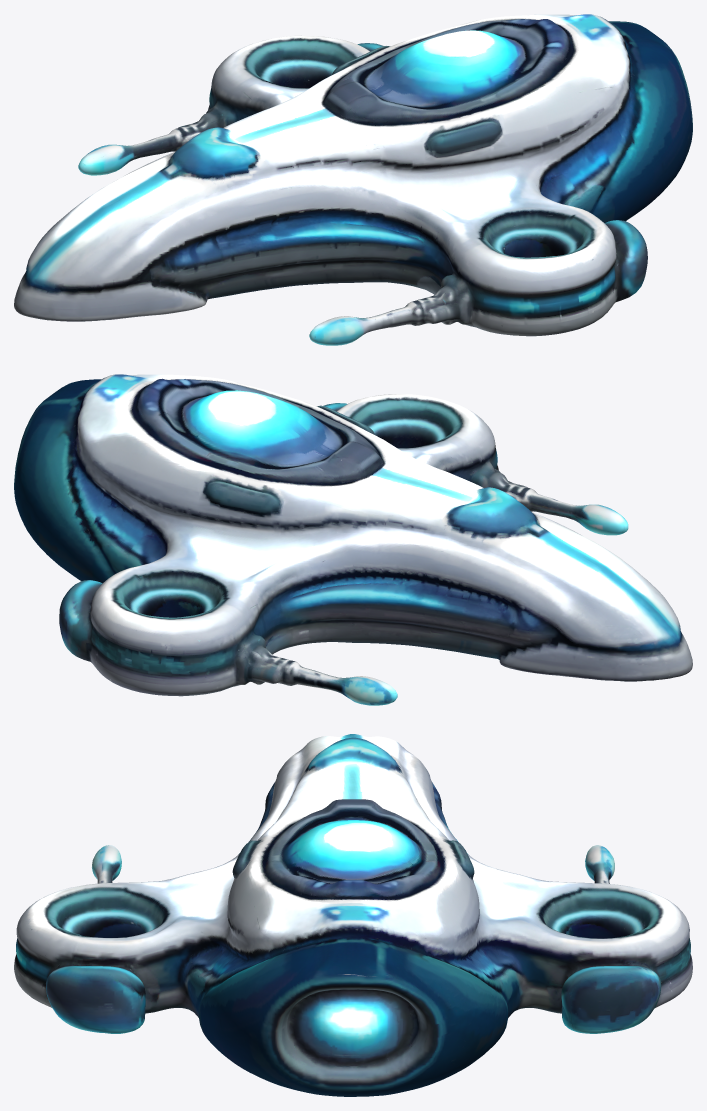
The model's file is Eclipse_Destroyer.glb.
The picture shows the model from 3 angles, top to bottom: view 1: azimuth 30°, elevation 25°; view 2: azimuth 150°, elevation 25°; view 3: azimuth 270°, elevation 25°; orthographic projection. The views are drawn at different scales.
Visible parts, largest first — view 1: Mesh_0; view 2: Mesh_0; view 3: Mesh_0.
Part boxes in pixels (<box>): Mesh_0: <box>14,14,692,345</box>; Mesh_0: <box>14,374,692,705</box>; Mesh_0: <box>14,734,692,1096</box>.
Bounding box in the file's own units: 1.91 × 0.4695 × 1.66.
1 material, 1 textured.
